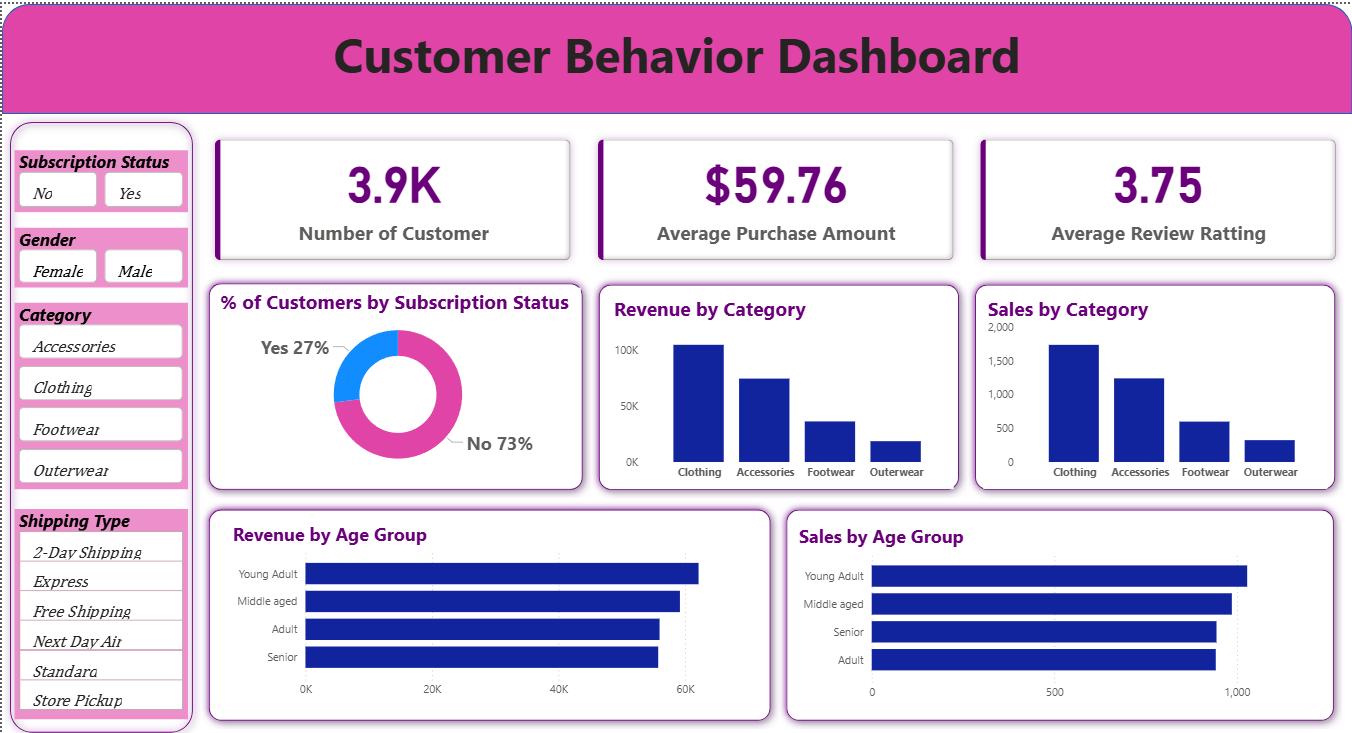

Layout of this report page (visuals, bound fields, positions):
{"tool":"powerbi","page":{"name":"Page 1","canvas":[1500,820],"ordinal":0},"visuals":[{"type":"cardVisual","fields":{"Data":["public customer.Number of Customer","public customer.Average Purchase Amount","public customer.Average Review Ratting"]},"box":[221.1,135.1,1278.9,166.7],"z":0},{"type":"shape","box":[0,0,1500.3,122.2],"z":1000},{"type":"textbox","box":[0,14.5,1500.3,172.1],"z":2000},{"type":"shape","box":[654.5,302.3,418.1,246],"z":3000},{"type":"clusteredColumnChart","title":"Revenue by Category","fields":{"Y":["Sum(public customer.purchase_amount)"],"Category":["public customer.category"]},"box":[675.4,323.2,382.7,215.5],"z":4000},{"type":"shape","box":[1072.6,302.3,418.1,246],"z":5000},{"type":"shape","box":[221.1,301.8,433.3,247.4],"z":6000},{"type":"clusteredColumnChart","title":"Sales by Category","fields":{"Y":["CountNonNull(public customer.customer_id)"],"Category":["public customer.category"]},"box":[1090.3,323.2,382.7,215.5],"z":7000},{"type":"donutChart","title":"% of Customers by Subscription Status","fields":{"Category":["public customer.subscription_status"],"Y":["CountNonNull(public customer.customer_id)"]},"box":[236.8,315.8,405.3,215.8],"z":8000},{"type":"shape","box":[0,122.8,221.1,696.5],"z":9000},{"type":"advancedSlicerVisual","fields":{"Values":["public customer.category"]},"box":[14,331.6,193,207],"z":10000},{"type":"advancedSlicerVisual","fields":{"Values":["public customer.gender"]},"box":[14,249.1,193,66.7],"z":11000},{"type":"advancedSlicerVisual","fields":{"Values":["public customer.subscription_status"]},"box":[14,163.2,193,68.4],"z":12000},{"type":"advancedSlicerVisual","fields":{"Values":["public customer.shipping_type"]},"box":[14,561.4,193,233.3],"z":13000},{"type":"shape","box":[221.1,552.6,642.1,252.6],"z":14000},{"type":"clusteredBarChart","title":"Revenue by Age Group","fields":{"Y":["Sum(public customer.purchase_amount)"],"Category":["public customer.age_group"]},"box":[250.9,575.4,593,205.3],"z":15000},{"type":"shape","box":[863.2,552.6,626.3,252.6],"z":16000},{"type":"clusteredBarChart","title":"Sales by Age Group","fields":{"Y":["CountNonNull(public customer.customer_id)"],"Category":["public customer.age_group"]},"box":[880.7,577.2,593,205.3],"z":17000}]}

Visuals, with their boxes in screenshot pixels (x1, y1, x2, y2), scaled from the page's 1500x820 canvas onto the 1352x733 screenshot:
cardVisual - public customer.Number of Customer x public customer.Average Purchase Amount: select_region(199, 121, 1351, 270)
shape: select_region(0, 0, 1351, 109)
textbox: select_region(0, 13, 1351, 167)
shape: select_region(590, 270, 967, 490)
"Revenue by Category" clusteredColumnChart: select_region(609, 289, 954, 482)
shape: select_region(967, 270, 1344, 490)
shape: select_region(199, 270, 590, 491)
"Sales by Category" clusteredColumnChart: select_region(983, 289, 1328, 482)
"% of Customers by Subscription Status" donutChart: select_region(213, 282, 579, 475)
shape: select_region(0, 110, 199, 732)
advancedSlicerVisual - public customer.category: select_region(13, 296, 187, 481)
advancedSlicerVisual - public customer.gender: select_region(13, 223, 187, 282)
advancedSlicerVisual - public customer.subscription_status: select_region(13, 146, 187, 207)
advancedSlicerVisual - public customer.shipping_type: select_region(13, 502, 187, 710)
shape: select_region(199, 494, 778, 720)
"Revenue by Age Group" clusteredBarChart: select_region(226, 514, 761, 698)
shape: select_region(778, 494, 1343, 720)
"Sales by Age Group" clusteredBarChart: select_region(794, 516, 1328, 699)
